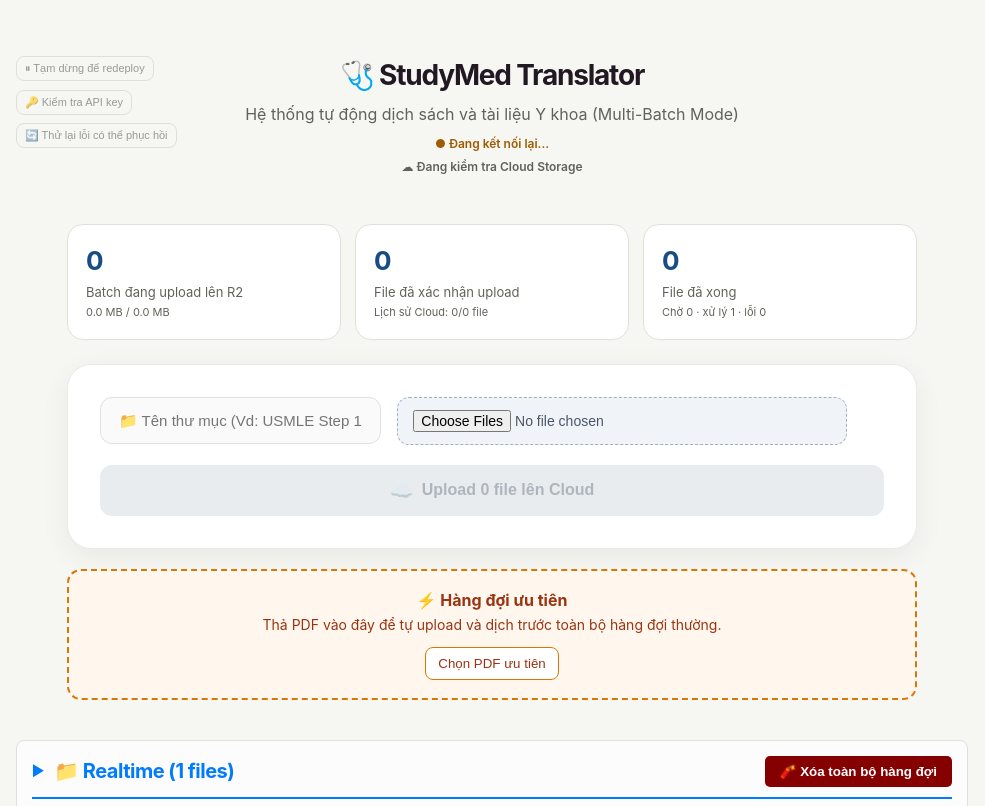
Scenario: App Cloud Uploader › debounces job stats refresh only for a real SSE status transition
Click the button "▼ 📁 Realtime (1 files)" at (133, 771), box [32, 757, 234, 785]
(page scrolled)
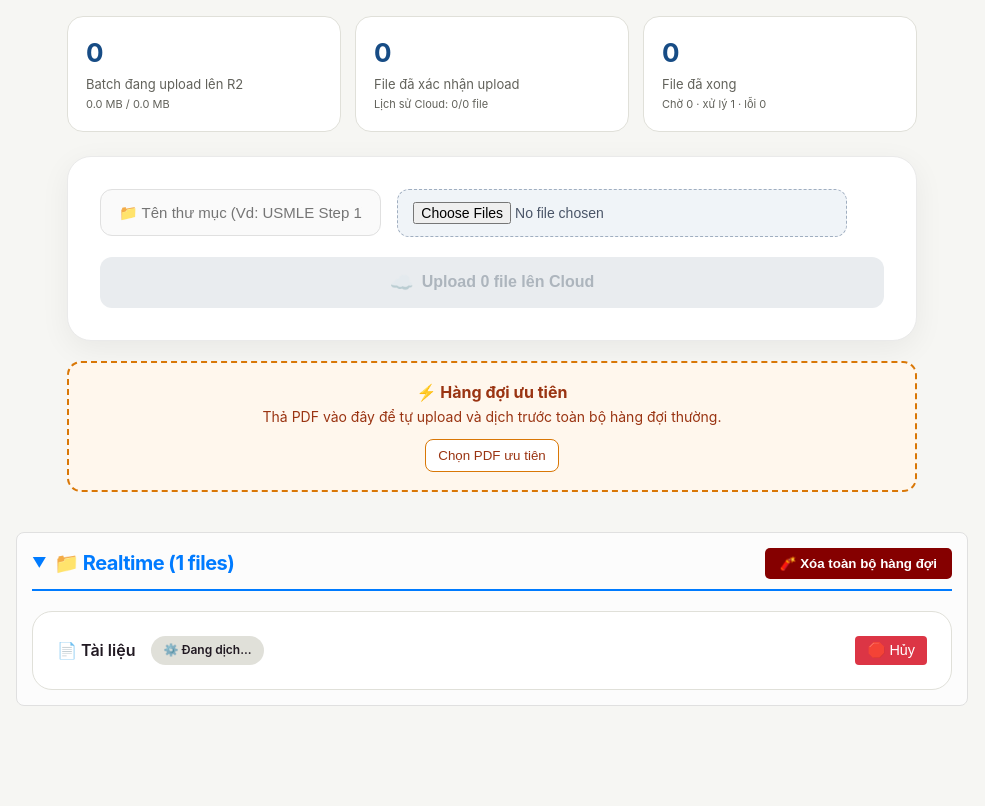
Result: the text "⚙️ Đang dịch..." is shown at [151, 636, 264, 665]
